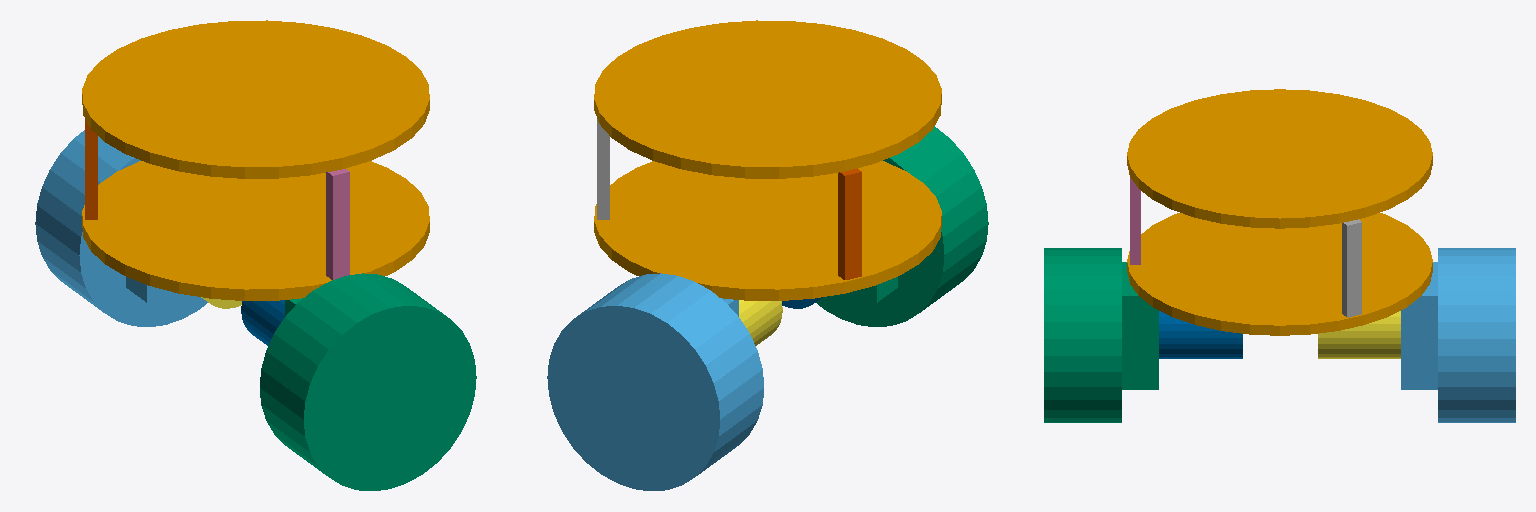
URDF robot description (unnamed):
<?xml version="1.0"?>
<!-- created with Phobos 1.0.1 "Capricious Choutengan" -->
  <robot name="unnamed">

    <link name="BaseLink">
      <inertial>
        <origin xyz="0 0 -0.00275" rpy="0 0 0"/>
        <mass value="0.07"/>
        <inertia ixx="0.0001" ixy="0" ixz="0" iyy="0.0001" iyz="0" izz="0.0002"/>
      </inertial>
      <visual name="lower_disc">
        <origin xyz="0 0 0" rpy="0 0 0"/>
        <geometry>
          <cylinder radius="0.075" length="0.0055"/>
        </geometry>
      </visual>
      <collision name="lower_disc">
        <origin xyz="0 0 -0.00275" rpy="0 0 0"/>
        <geometry>
          <cylinder radius="0.075" length="0.0055"/>
        </geometry>
      </collision>
    </link>

    <link name="Holder1_link">
      <inertial>
        <origin xyz="0 0 0" rpy="0 0 0"/>
        <mass value="0.03"/>
        <inertia ixx="0.001" ixy="0" ixz="0" iyy="0.001" iyz="0" izz="0.001"/>
      </inertial>
      <visual name="Holder2">
        <origin xyz="0 0 0" rpy="0 0 0"/>
        <geometry>
          <box size="0.0509 0.04 0.0309"/>
        </geometry>
      </visual>
    </link>

    <link name="Holder2_link">
      <inertial>
        <origin xyz="0 0 0" rpy="0 0 0"/>
        <mass value="0.03"/>
        <inertia ixx="0.001" ixy="0" ixz="0" iyy="0.001" iyz="0" izz="0.001"/>
      </inertial>
      <visual name="Holder1">
        <origin xyz="0 0 0" rpy="0 0 0"/>
        <geometry>
          <box size="0.0509 0.04 0.0309"/>
        </geometry>
      </visual>
      <collision name="Holder1">
        <origin xyz="0.00045 0 0.01455" rpy="0 0 0"/>
        <geometry>
          <box size="0.0509 0.04 0.0309"/>
        </geometry>
      </collision>
    </link>

    <link name="Motor1_link">
      <inertial>
        <origin xyz="0 0 -0.02034" rpy="0 0 0"/>
        <mass value="0.225"/>
        <inertia ixx="7e-05" ixy="0" ixz="0" iyy="3e-05" iyz="0" izz="2e-05"/>
      </inertial>
      <visual name="Motor1">
        <origin xyz="0 0 0" rpy="0 0 0"/>
        <geometry>
          <cylinder radius="0.018" length="0.0855"/>
        </geometry>
      </visual>
      <collision name="Motor1">
        <origin xyz="0 0 -0.02034" rpy="0 0 0"/>
        <geometry>
          <cylinder radius="0.018" length="0.06216"/>
        </geometry>
      </collision>
    </link>

    <link name="Motor2_link">
      <inertial>
        <origin xyz="0 0 -0.02027" rpy="0 0 0"/>
        <mass value="0.225"/>
        <inertia ixx="7e-05" ixy="0" ixz="0" iyy="3e-05" iyz="0" izz="2e-05"/>
      </inertial>
      <visual name="Motor2">
        <origin xyz="0 0 0" rpy="0 0 0"/>
        <geometry>
          <cylinder radius="0.018" length="0.0855"/>
        </geometry>
      </visual>
      <collision name="Motor2">
        <origin xyz="0 0 -0.02027" rpy="0 0 0"/>
        <geometry>
          <cylinder radius="0.018" length="0.06262"/>
        </geometry>
      </collision>
    </link>

    <link name="Pillar1_link">
      <inertial>
        <origin xyz="0 0 0" rpy="0 0 0"/>
        <mass value="0.001"/>
        <inertia ixx="2e-05" ixy="0" ixz="0" iyy="2e-05" iyz="0" izz="2e-05"/>
      </inertial>
      <visual name="Pillar1">
        <origin xyz="0 0 0" rpy="0 0 0"/>
        <geometry>
          <box size="0.0085 0.0055 0.0525"/>
        </geometry>
      </visual>
      <collision name="Pillar1">
        <origin xyz="0 0 0" rpy="0 0 0"/>
        <geometry>
          <box size="0.0085 0.0055 0.0525"/>
        </geometry>
      </collision>
    </link>

    <link name="Pillar2_link">
      <inertial>
        <origin xyz="0 0 0" rpy="0 0 0"/>
        <mass value="0.001"/>
        <inertia ixx="2e-05" ixy="0" ixz="0" iyy="2e-05" iyz="0" izz="2e-05"/>
      </inertial>
      <visual name="Pillar2">
        <origin xyz="0 0 0" rpy="0 0 0"/>
        <geometry>
          <box size="0.0085 0.0055 0.0525"/>
        </geometry>
      </visual>
      <collision name="Pillar2">
        <origin xyz="0 0 0" rpy="0 0 0"/>
        <geometry>
          <box size="0.0085 0.0055 0.0525"/>
        </geometry>
      </collision>
    </link>

    <link name="Pillar3_link">
      <inertial>
        <origin xyz="0 0 0" rpy="0 0 0"/>
        <mass value="0.001"/>
        <inertia ixx="2e-05" ixy="0" ixz="0" iyy="2e-05" iyz="0" izz="2e-05"/>
      </inertial>
      <visual name="Pillar3">
        <origin xyz="0 0 0" rpy="0 0 0"/>
        <geometry>
          <box size="0.0085 0.0055 0.0525"/>
        </geometry>
      </visual>
      <collision name="Pillar3">
        <origin xyz="0 0 0" rpy="0 0 0"/>
        <geometry>
          <box size="0.0085 0.0055 0.0525"/>
        </geometry>
      </collision>
    </link>

    <link name="UpperLink">
      <inertial>
        <origin xyz="0 0 -0.00275" rpy="0 0 0"/>
        <mass value="0.07"/>
        <inertia ixx="0.0001" ixy="0" ixz="0" iyy="0.0001" iyz="0" izz="0.0002"/>
      </inertial>
      <visual name="upper_disc">
        <origin xyz="0 0 0" rpy="0 0 0"/>
        <geometry>
          <cylinder radius="0.075" length="0.0055"/>
        </geometry>
      </visual>
      <collision name="upper_disc">
        <origin xyz="0 0 -0.00275" rpy="0 0 0"/>
        <geometry>
          <cylinder radius="0.075" length="0.0055"/>
        </geometry>
      </collision>
    </link>

    <link name="wheel1_link">
      <inertial>
        <origin xyz="0 0 0" rpy="0 0 0"/>
        <mass value="0.13"/>
        <inertia ixx="4e-05" ixy="0" ixz="0" iyy="7e-05" iyz="0" izz="0.00117"/>
      </inertial>
      <visual name="Wheel1">
        <origin xyz="0 0 0" rpy="0 0 0"/>
        <geometry>
          <cylinder radius="0.043" length="0.03798"/>
        </geometry>
      </visual>
      <collision name="Wheel1">
        <origin xyz="0 0 0" rpy="0 0 0"/>
        <geometry>
          <cylinder radius="0.043" length="0.03798"/>
        </geometry>
      </collision>
    </link>

    <link name="wheel2_link">
      <inertial>
        <origin xyz="0 0 0" rpy="0 0 0"/>
        <mass value="0.13"/>
        <inertia ixx="4e-05" ixy="0" ixz="0" iyy="7e-05" iyz="0" izz="0.00117"/>
      </inertial>
      <visual name="Wheel2">
        <origin xyz="0 0 0" rpy="0 0 0"/>
        <geometry>
          <cylinder radius="0.043" length="0.03798"/>
        </geometry>
      </visual>
      <collision name="Wheel2">
        <origin xyz="0 0 0" rpy="0 0 0"/>
        <geometry>
          <cylinder radius="0.043" length="0.03798"/>
        </geometry>
      </collision>
    </link>

    <joint name="Holder1_link" type="floating">
      <origin xyz="0 0.075 -0.0323" rpy="1.5708 -1.5708 0"/>
      <parent link="BaseLink"/>
      <child link="Holder1_link"/>
    </joint>

    <joint name="Holder2_link" type="floating">
      <origin xyz="0 -0.075 -0.0323" rpy="-1.5708 -1.5708 0"/>
      <parent link="BaseLink"/>
      <child link="Holder2_link"/>
    </joint>

    <joint name="Motor1_link" type="floating">
      <origin xyz="0.002 0 0.0138" rpy="0 3.14159 0"/>
      <parent link="Holder1_link"/>
      <child link="Motor1_link"/>
    </joint>

    <joint name="Motor2_link" type="floating">
      <origin xyz="0.002 0 0.0139" rpy="0 -3.14159 0"/>
      <parent link="Holder2_link"/>
      <child link="Motor2_link"/>
    </joint>

    <joint name="Pillar1_link" type="floating">
      <origin xyz="-0.06127 0.03537 0.02625" rpy="0 0 -2.0944"/>
      <parent link="BaseLink"/>
      <child link="Pillar1_link"/>
    </joint>

    <joint name="Pillar2_link" type="floating">
      <origin xyz="0 -0.07075 0.02625" rpy="0 0 0"/>
      <parent link="BaseLink"/>
      <child link="Pillar2_link"/>
    </joint>

    <joint name="Pillar3_link" type="floating">
      <origin xyz="0.06127 0.03537 0.02625" rpy="0 0 2.0944"/>
      <parent link="BaseLink"/>
      <child link="Pillar3_link"/>
    </joint>

    <joint name="UpperLink" type="floating">
      <origin xyz="0 0.07075 0.03175" rpy="0 0 0"/>
      <parent link="Pillar2_link"/>
      <child link="UpperLink"/>
    </joint>

    <joint name="wheel1_link" type="continuous">
      <origin xyz="-0.005 0 -0.0215" rpy="0 0 -1.5708"/>
      <parent link="Holder1_link"/>
      <child link="wheel1_link"/>
      <axis xyz="0 0 1.0"/>
      <limit effort="0.26" velocity="15.708"/>
    </joint>

    <joint name="wheel2_link" type="continuous">
      <origin xyz="0.007 0 0.0354" rpy="0 0 1.5708"/>
      <parent link="Motor2_link"/>
      <child link="wheel2_link"/>
      <axis xyz="0 0 1.0"/>
      <limit effort="0.26" velocity="15.708"/>
    </joint>

  </robot>

--- Render facts (derived) ---
Views: 3 orthographic renders of the robot side by side, from view 1: azimuth 30°, elevation 25°; view 2: azimuth 150°, elevation 25°; view 3: azimuth 270°, elevation 25°.
Robot: unnamed — 11 links, 10 joints (2 continuous, 8 floating); root link BaseLink; default pose: all joints at 0.
Visible links, largest first — view 1: UpperLink, wheel2_link, BaseLink, wheel1_link, Pillar2_link, Motor2_link, Pillar1_link, Holder1_link; view 2: UpperLink, wheel1_link, BaseLink, wheel2_link, Pillar1_link, Motor1_link, Pillar3_link, Holder2_link; view 3: UpperLink, BaseLink, wheel1_link, wheel2_link, Holder1_link, Holder2_link, Motor2_link, Motor1_link, Pillar3_link, Pillar2_link.
Link boxes in pixels (<box>): UpperLink: <box>82,20,429,178</box>; wheel2_link: <box>260,273,476,490</box>; BaseLink: <box>82,161,429,300</box>; wheel1_link: <box>35,130,207,326</box>; Pillar2_link: <box>326,169,349,279</box>; Motor2_link: <box>241,300,284,345</box>; Pillar1_link: <box>85,119,97,219</box>; Holder1_link: <box>126,277,179,302</box>; UpperLink: <box>594,20,941,178</box>; wheel1_link: <box>547,273,763,490</box>; BaseLink: <box>594,161,941,300</box>; wheel2_link: <box>816,126,988,326</box>; Pillar1_link: <box>838,168,861,279</box>; Motor1_link: <box>739,300,782,345</box>; Pillar3_link: <box>597,119,609,219</box>; Holder2_link: <box>844,277,897,302</box>; UpperLink: <box>1127,89,1432,228</box>; BaseLink: <box>1127,213,1432,335</box>; wheel1_link: <box>1438,248,1515,422</box>; wheel2_link: <box>1044,248,1121,422</box>; Holder1_link: <box>1401,262,1437,389</box>; Holder2_link: <box>1122,262,1158,389</box>; Motor2_link: <box>1159,311,1242,358</box>; Motor1_link: <box>1318,311,1400,358</box>; Pillar3_link: <box>1342,219,1361,317</box>; Pillar2_link: <box>1130,177,1140,264</box>.
Size in the robot's own frame: 0.15 by 0.231 by 0.1411 metres.
Geometry: primitives only (box / cylinder / sphere), no mesh files.